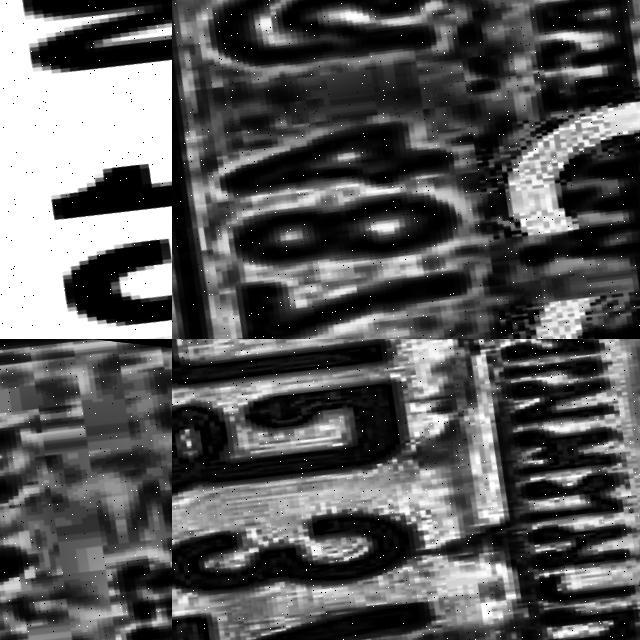license-plate: (172, 0, 640, 339), (172, 339, 640, 640), (0, 0, 172, 339), (0, 339, 172, 640)
